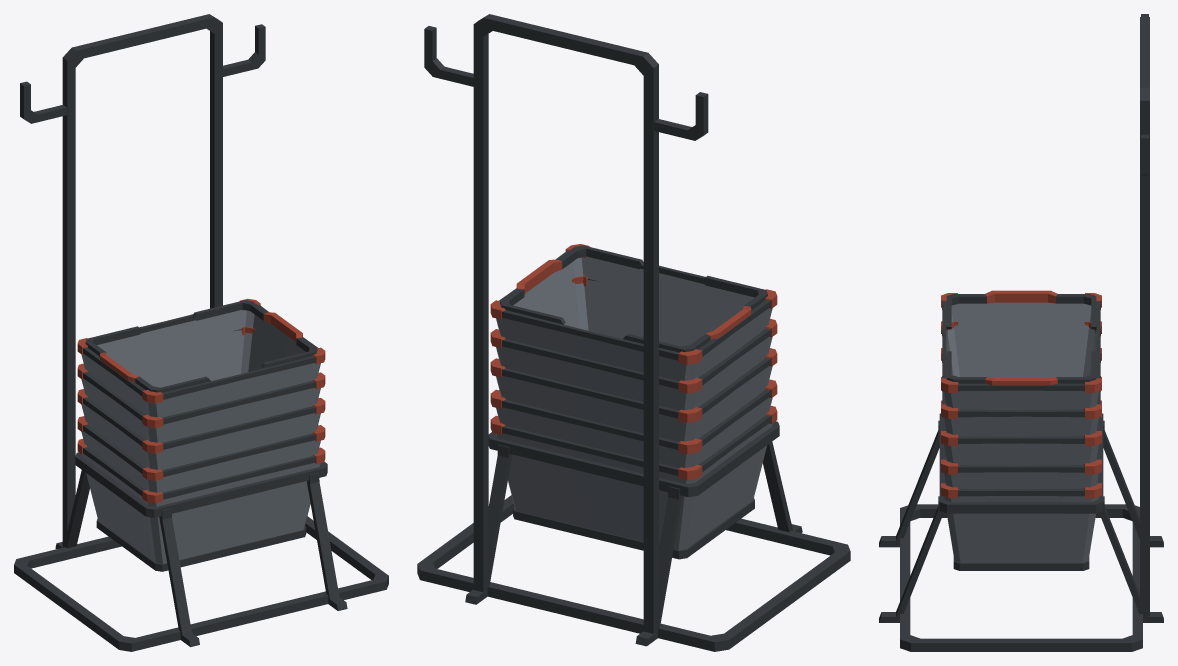
The model's file is SM_Prop_ShoppingBasket_Stand_01_Preset.obj.
3 views of the same model, side by side, from view 1: azimuth 30°, elevation 25°; view 2: azimuth 150°, elevation 25°; view 3: azimuth 270°, elevation 25° (orthographic). The views are drawn at different scales.
Parts seen in each view (by area): view 1: SM_Prop_ShoppingBasket_Stand_01_Preset_1, SM_Prop_ShoppingBasket_Stand_01_Preset_0; view 2: SM_Prop_ShoppingBasket_Stand_01_Preset_1, SM_Prop_ShoppingBasket_Stand_01_Preset_0; view 3: SM_Prop_ShoppingBasket_Stand_01_Preset_1, SM_Prop_ShoppingBasket_Stand_01_Preset_0.
Part boxes in pixels (x1,y1,x2,y2): SM_Prop_ShoppingBasket_Stand_01_Preset_1: (14, 14, 388, 651); SM_Prop_ShoppingBasket_Stand_01_Preset_0: (81, 310, 320, 564); SM_Prop_ShoppingBasket_Stand_01_Preset_1: (417, 14, 850, 651); SM_Prop_ShoppingBasket_Stand_01_Preset_0: (496, 256, 772, 550); SM_Prop_ShoppingBasket_Stand_01_Preset_1: (879, 14, 1163, 651); SM_Prop_ShoppingBasket_Stand_01_Preset_0: (944, 302, 1098, 562).
Size of the model in its own units: 1.02 by 1.83 by 0.8888.
Materials: 2 (2 with a texture image).
